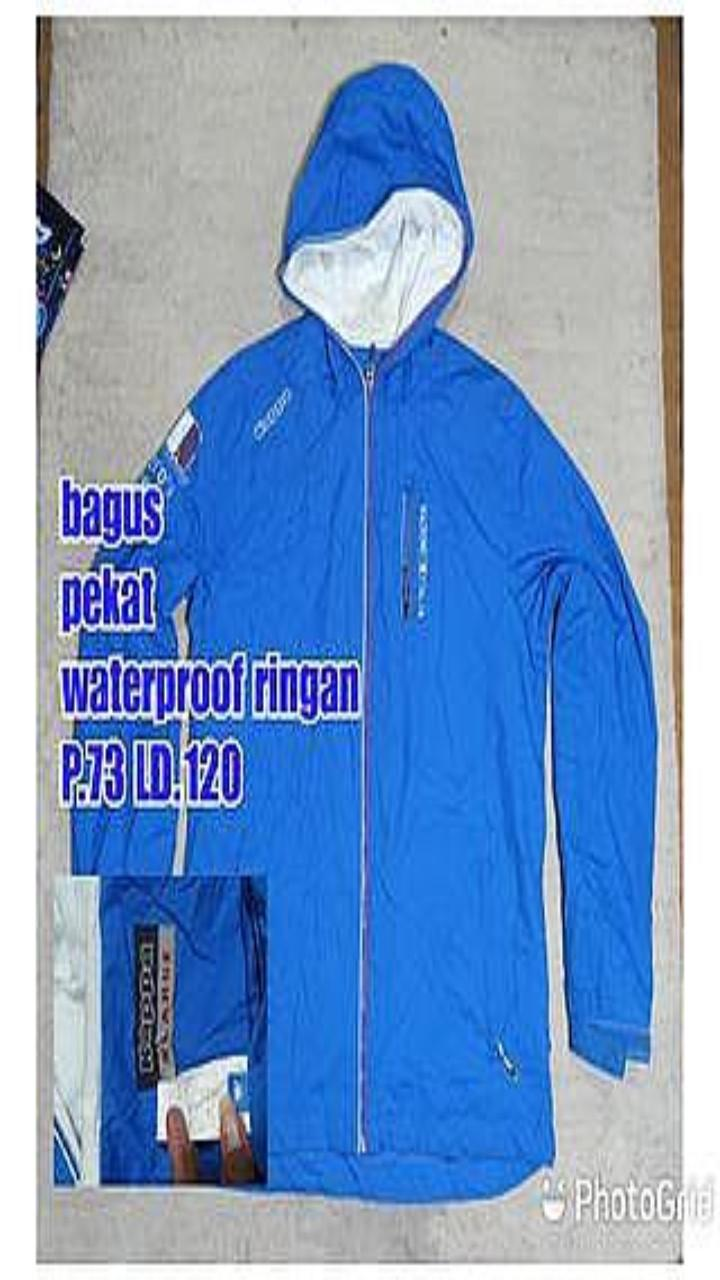Sports_Jacket: (81, 65, 655, 1200), (54, 876, 266, 1185)
